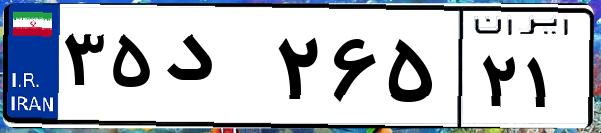1: (525, 38, 570, 115)
2: (270, 28, 330, 110), (475, 38, 525, 113)
3: (57, 26, 110, 100)
5: (385, 28, 445, 110), (110, 28, 158, 98)
6: (330, 28, 385, 110)
د: (158, 20, 270, 120)
